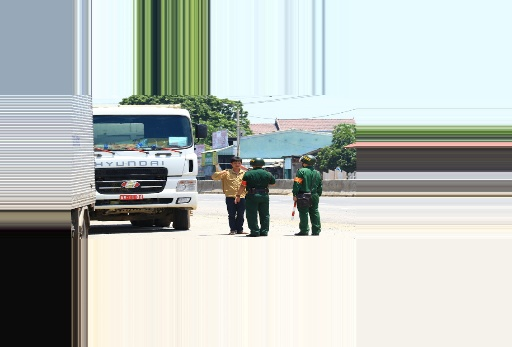plate: (118, 192, 144, 200)
